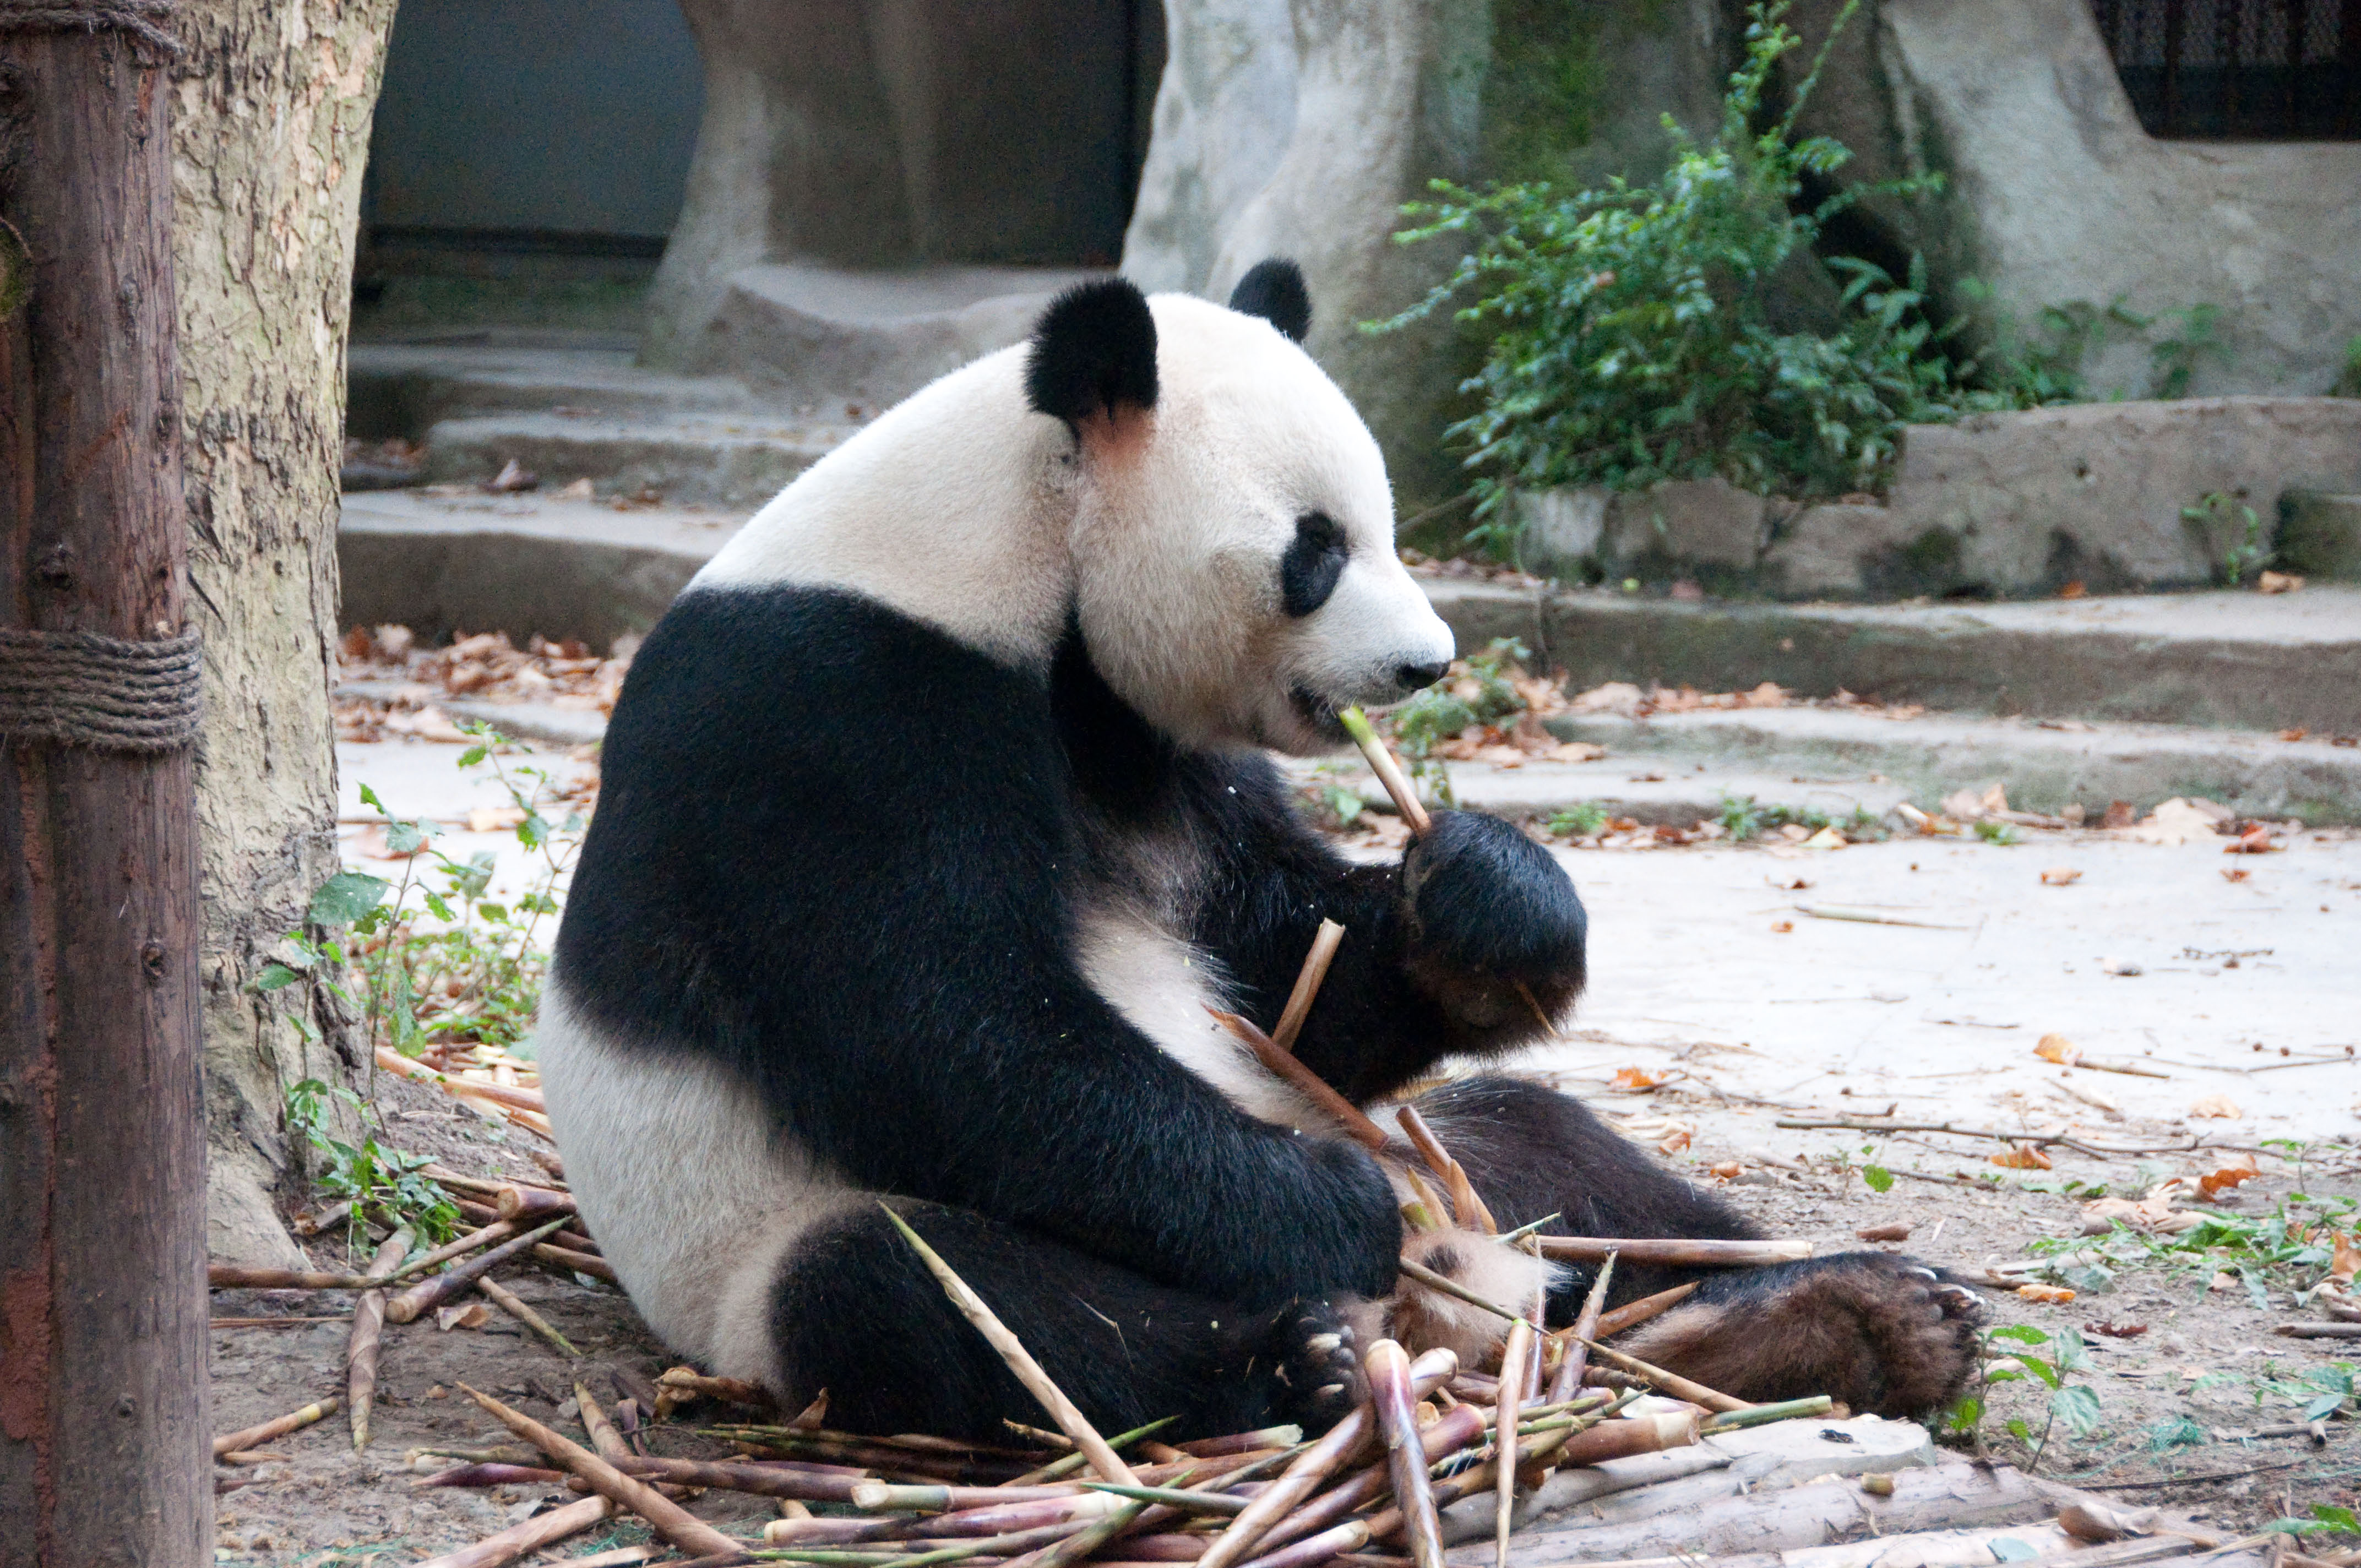panda: (576, 226, 2039, 1484)
